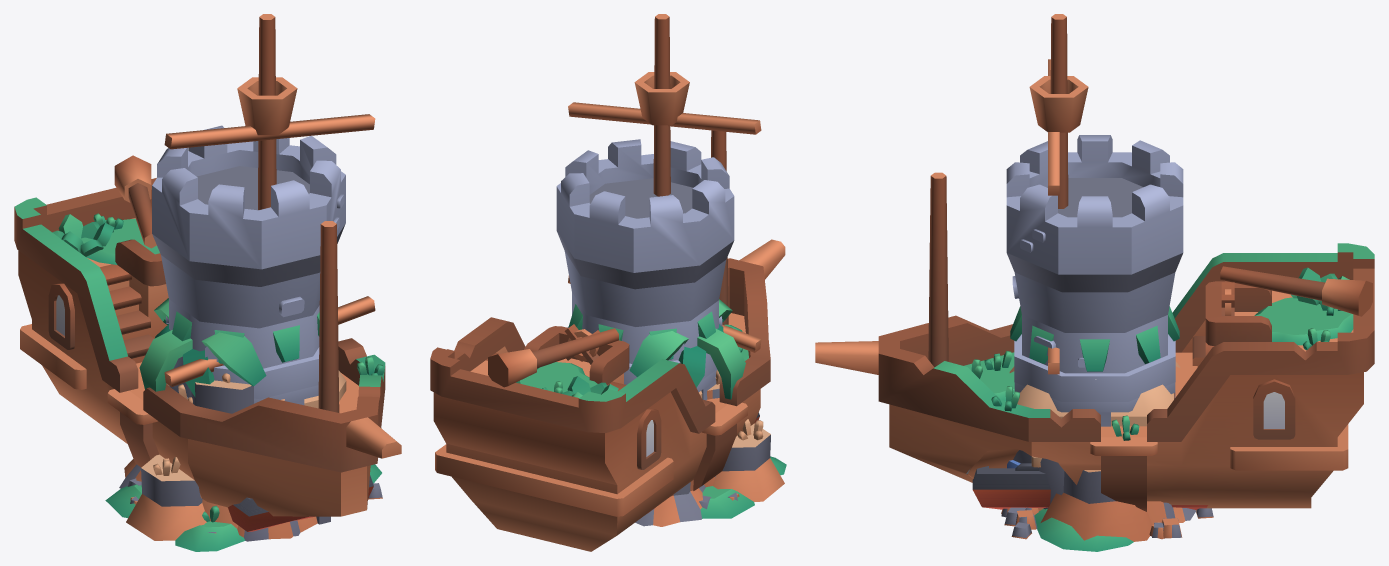
Rendered from world.glb.
The picture shows the model from 3 angles, left to right: view 1: azimuth 30°, elevation 25°; view 2: azimuth 150°, elevation 25°; view 3: azimuth 270°, elevation 25°; orthographic projection. The views are drawn at different scales.
Visible parts, largest first — view 1: ship-wreck, tower-complete-small, Group (×3), sail-a, rocks-sand-a, palm-bend, rocks-a, patch-grass-foliage, boat-house-a, palm-detailed-straight, rocks-sand-b, rocks-b (+2 smaller); view 2: ship-wreck, tower-complete-small, Group (×3), palm-bend, sail-a, rocks-sand-a, patch-grass-foliage, rocks-a, rocks-b, rocks-sand-b, palm-detailed-bend, palm-detailed-straight; view 3: ship-wreck, tower-complete-small, Group (×3), rocks-sand-a, boat-house-a, structure-roof, patch-grass-foliage, rocks-a, palm-detailed-straight, palm-straight, sail-a, tower-watch.
Boxes of the visible parts, <box> form: ship-wreck: <box>14,14,401,516</box>; tower-complete-small: <box>152,125,345,524</box>; Group (×3): <box>52,155,159,264</box>; sail-a: <box>164,114,375,386</box>; rocks-sand-a: <box>126,373,382,540</box>; palm-bend: <box>139,298,266,391</box>; rocks-a: <box>127,383,382,506</box>; patch-grass-foliage: <box>105,464,381,551</box>; boat-house-a: <box>228,475,373,531</box>; palm-detailed-straight: <box>172,311,299,362</box>; rocks-sand-b: <box>124,384,293,539</box>; rocks-b: <box>119,464,300,541</box>; ship-wreck: <box>430,14,785,551</box>; tower-complete-small: <box>556,139,734,384</box>; Group (×3): <box>488,328,618,397</box>; palm-bend: <box>629,299,745,399</box>; sail-a: <box>568,102,761,352</box>; rocks-sand-a: <box>713,419,784,501</box>; patch-grass-foliage: <box>700,456,786,518</box>; rocks-a: <box>699,434,770,509</box>; rocks-b: <box>635,388,737,526</box>; rocks-sand-b: <box>653,370,739,526</box>; palm-detailed-bend: <box>678,324,723,387</box>; palm-detailed-straight: <box>598,311,715,340</box>; ship-wreck: <box>815,14,1374,511</box>; tower-complete-small: <box>1006,135,1183,509</box>; Group (×3): <box>964,266,1372,401</box>; rocks-sand-a: <box>1004,470,1213,541</box>; boat-house-a: <box>972,463,1207,509</box>; structure-roof: <box>1009,361,1180,510</box>; patch-grass-foliage: <box>1034,509,1133,551</box>; rocks-a: <box>1005,470,1213,537</box>; palm-detailed-straight: <box>1010,306,1179,371</box>; palm-straight: <box>1029,325,1160,363</box>; sail-a: <box>1048,59,1059,374</box>; tower-watch: <box>1014,382,1175,426</box>.
Size of the model in its own units: 5.33 by 10.26 by 10.6.
4 materials, 4 textured.
